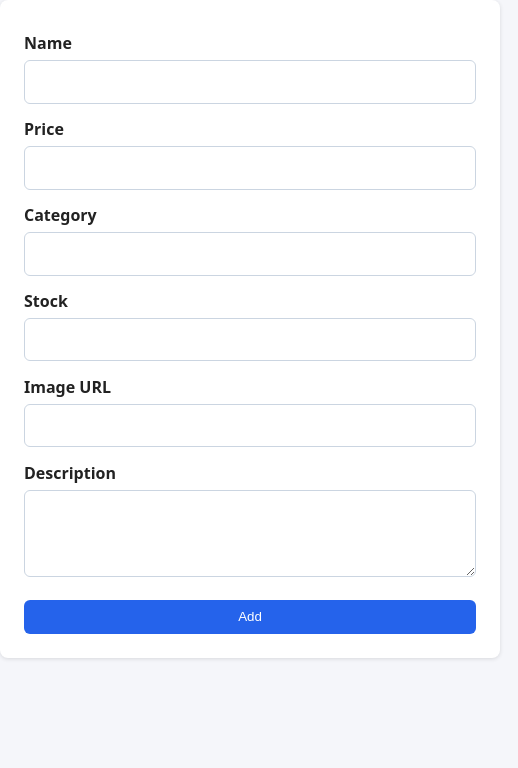
ProductForm › shows validation errors and does not submit when empty
Click the button "Add" at {"x": 250, "y": 617}, box [24,600,476,634]
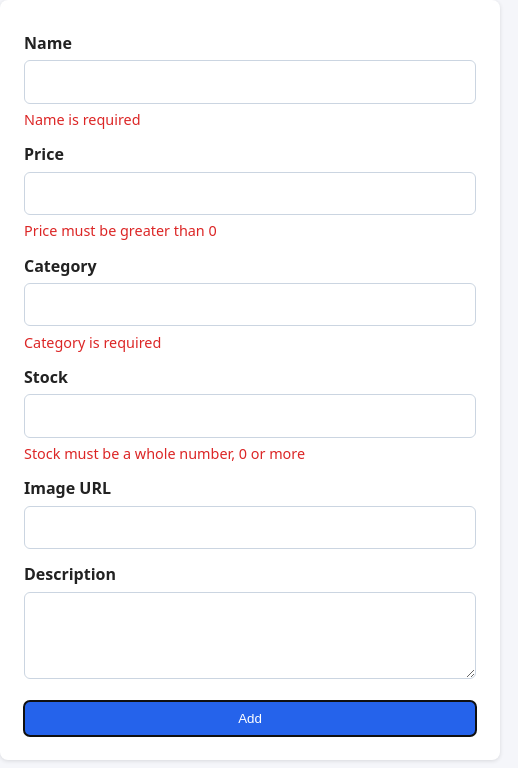
Result: the text "Name is required" is shown at [24,110,140,129]
Result: the text "Price must be greater than 0" is shown at [24,221,217,240]
Result: the text "Category is required" is shown at [24,333,161,352]
